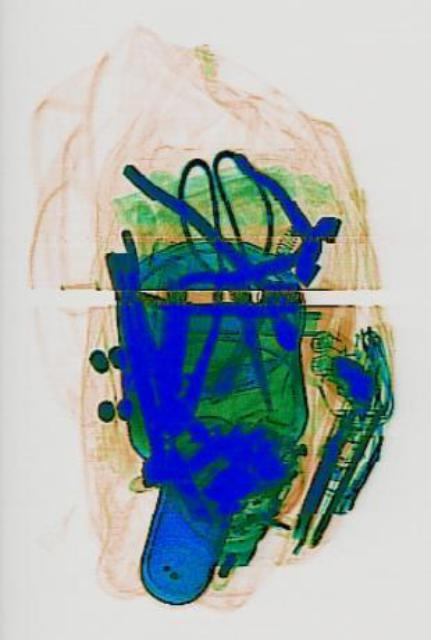Scissors: (165, 130, 314, 428)
